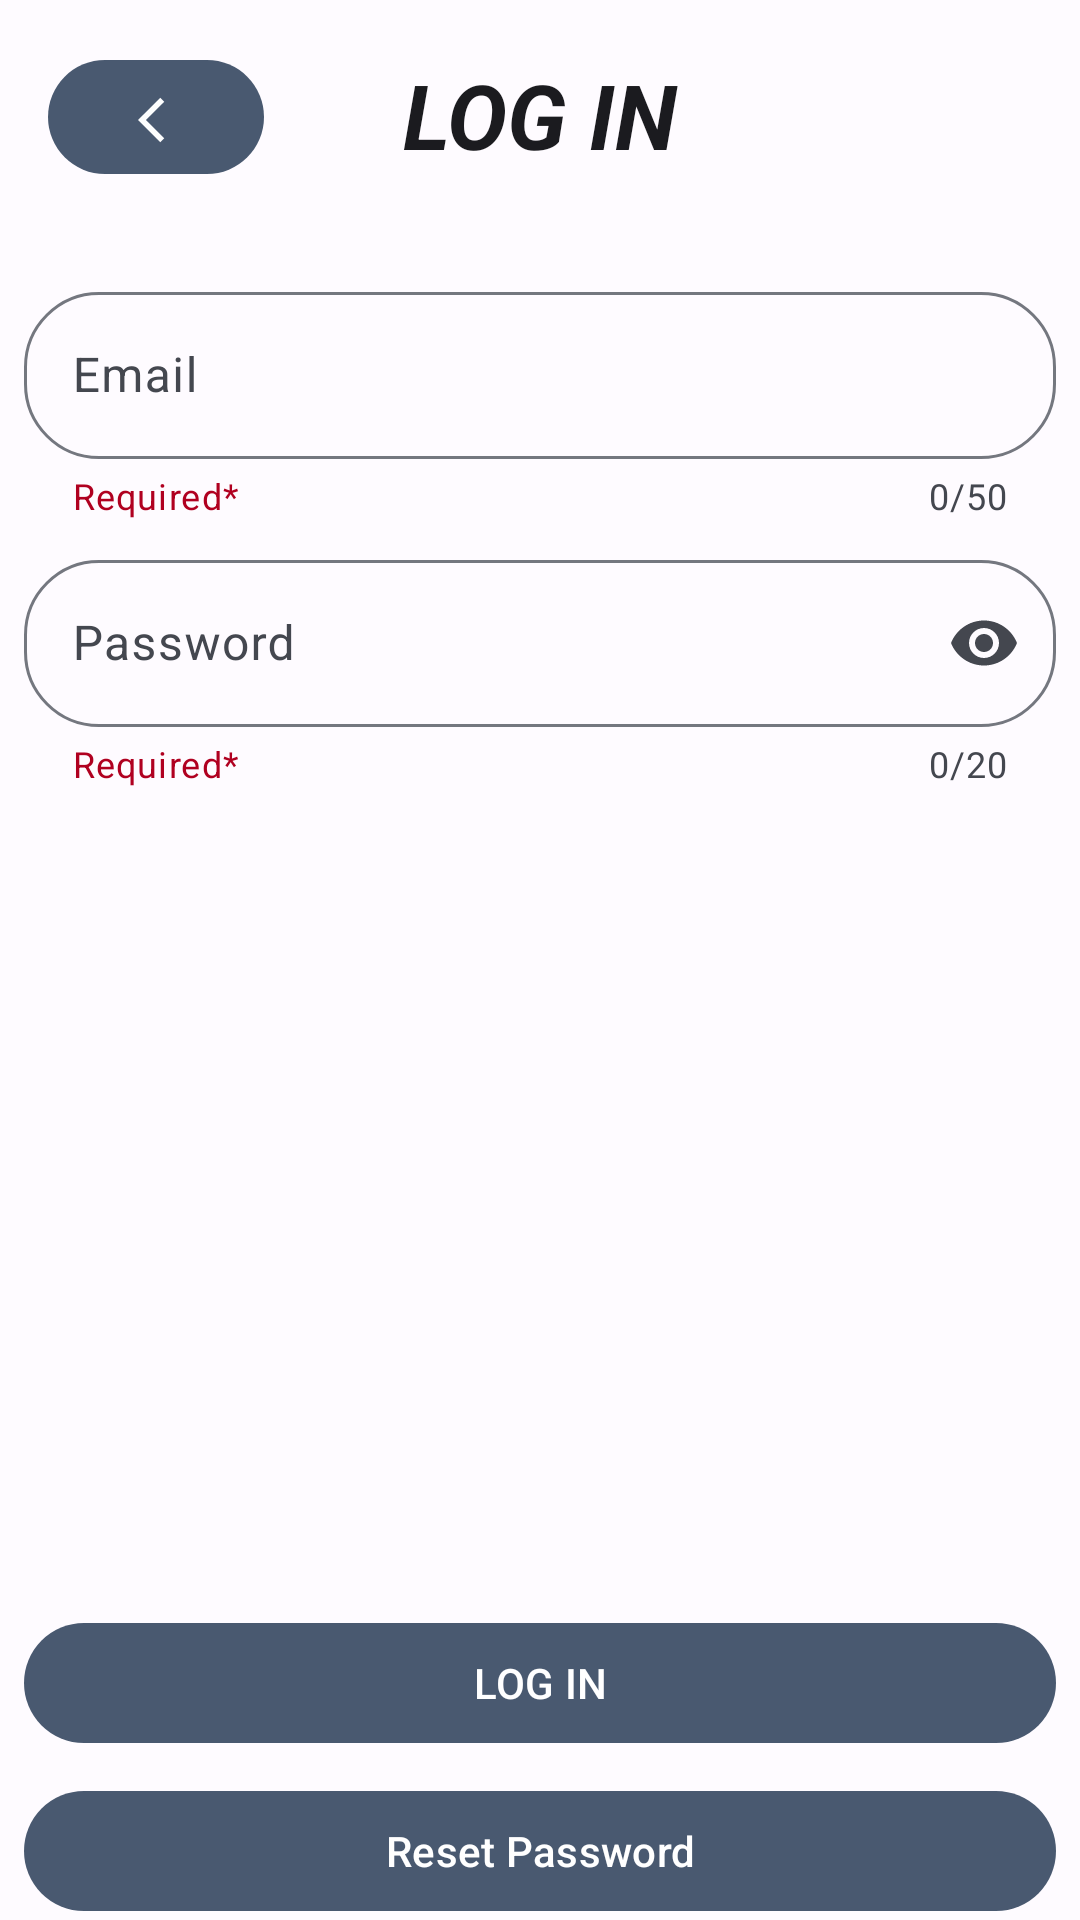

Named icons in this screenshot (1080w x 1920h) and their bounding boxes, [x1,y1,x2,y2]:
back: [48,60,264,174]
